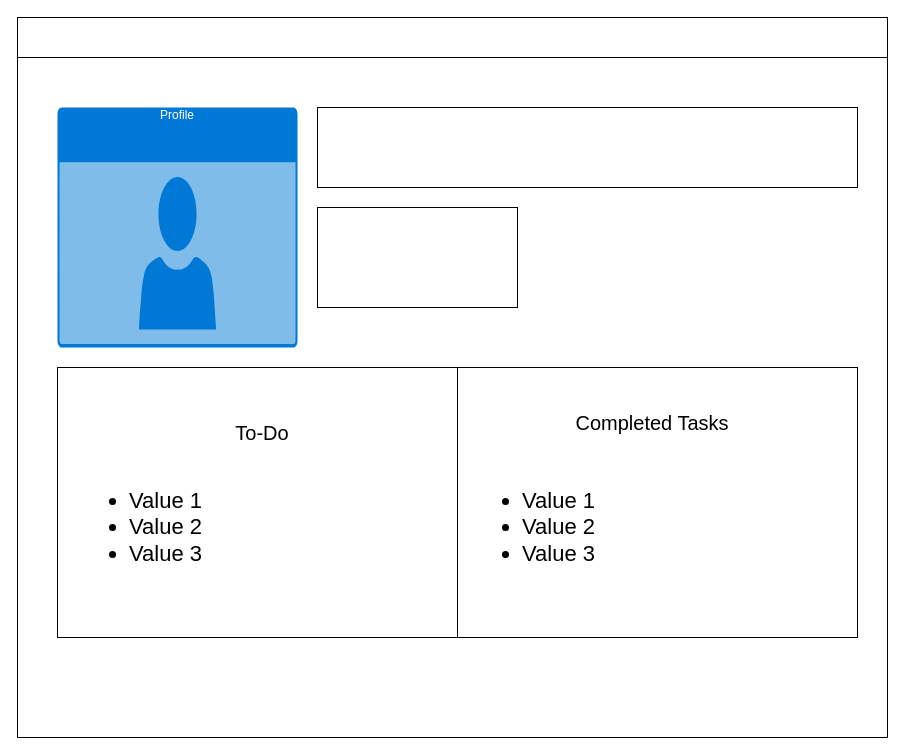
This 905x755 diagram has some shape labels left out. The box of each missing label's shape, as (x1, y1, x2, y2) in pixels:
Bio: (316, 206, 518, 308)
Name: (316, 106, 858, 188)
